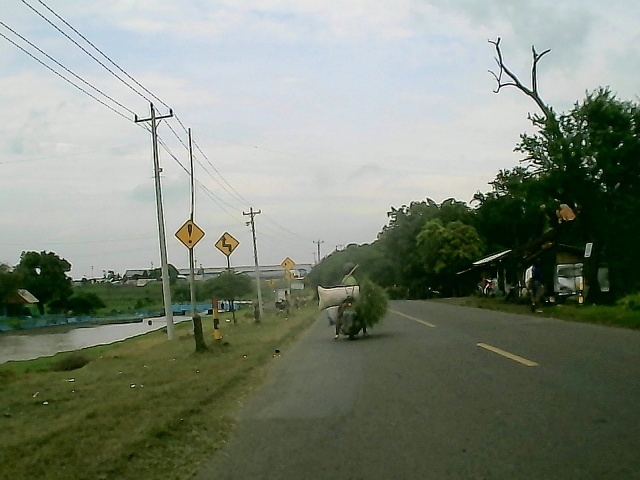Hati-hati: (173, 220, 205, 251)
Tikungan garda pertama kiri: (212, 231, 241, 260)
